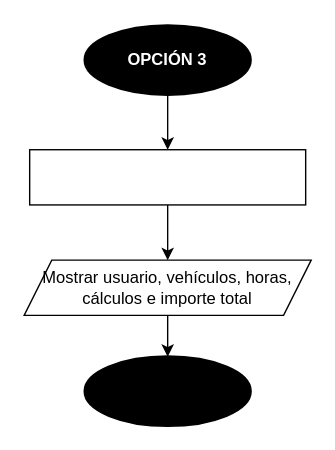
Some shapes in this 335 by 450 pixel diagram are drawn without their labels. The shapes that lost their labels are listed below. From the top down, each one's box as (x1, y1, x2, y2) in pixels, then its label:
(28, 148, 306, 205): mostrarResumen (nombre, totales)
(83, 355, 251, 426): VOLVER AL MENÚ
